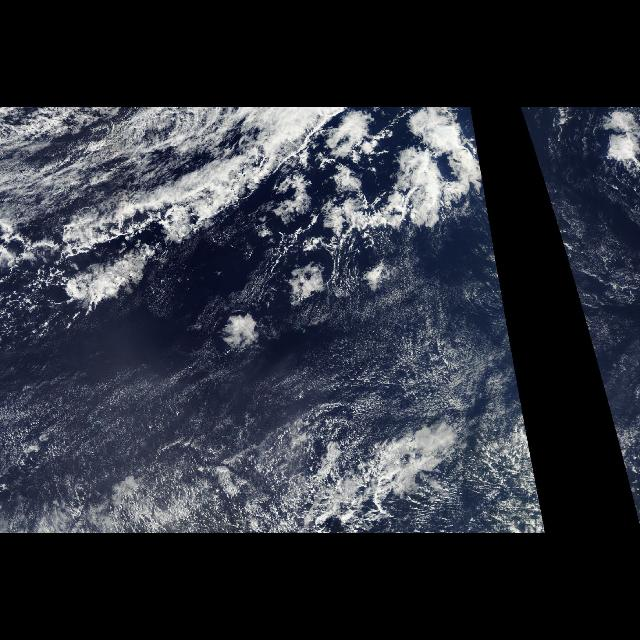Sugar: (294, 304, 520, 422)
